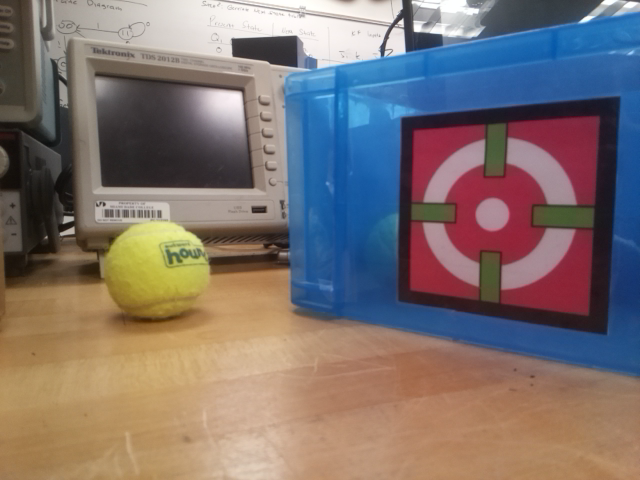drop-bin: (396, 93, 621, 333)
yellow-ball: (102, 218, 211, 323)
